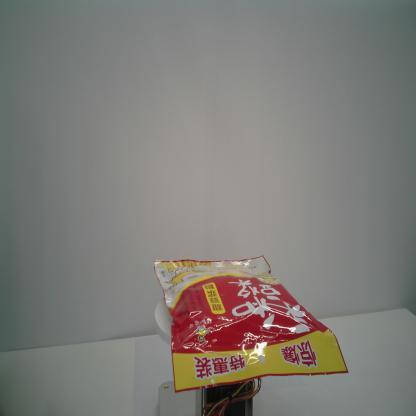Instant Drink: (153, 255, 348, 393)
